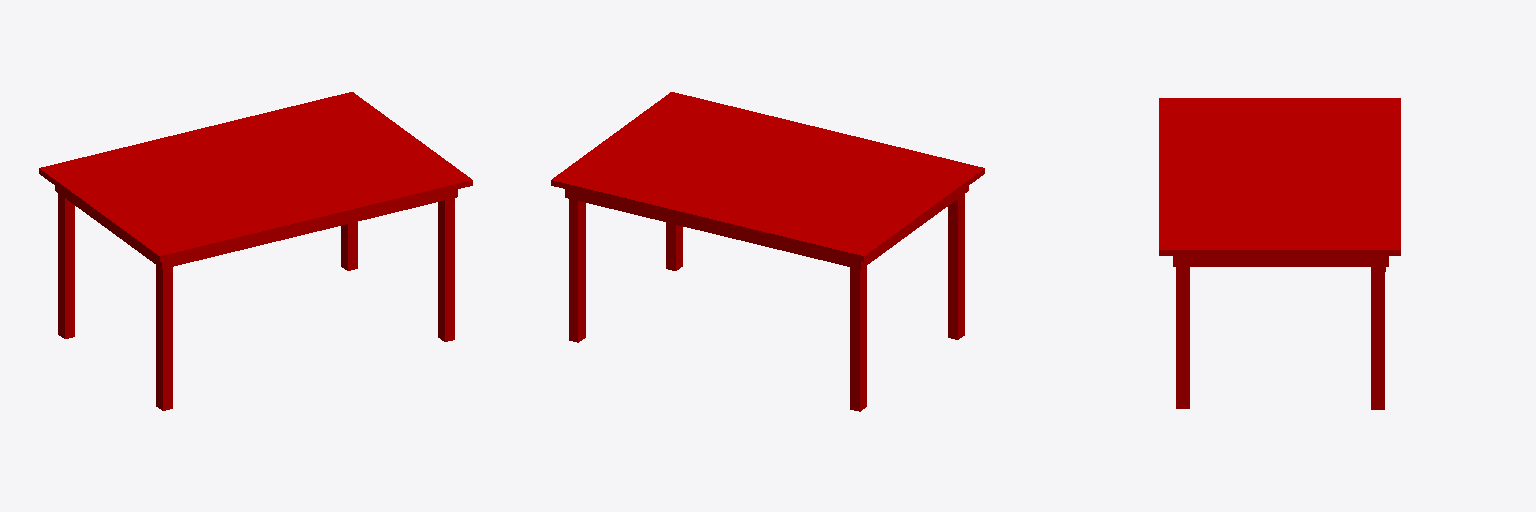
File: tabless.obj
3 renders of one model, left to right at view 1: azimuth 30°, elevation 25°; view 2: azimuth 150°, elevation 25°; view 3: azimuth 270°, elevation 25°, orthographic.
Parts seen in each view (by area): view 1: table_pCube9.001; view 2: table_pCube9.001; view 3: table_pCube9.001.
Boxes of the visible parts, x1=… form: table_pCube9.001: x1=39, y1=92, x2=472, y2=410; table_pCube9.001: x1=551, y1=92, x2=984, y2=411; table_pCube9.001: x1=1159, y1=98, x2=1400, y2=409.
Bounding box in the file's own units: 3 × 1.5 × 2.